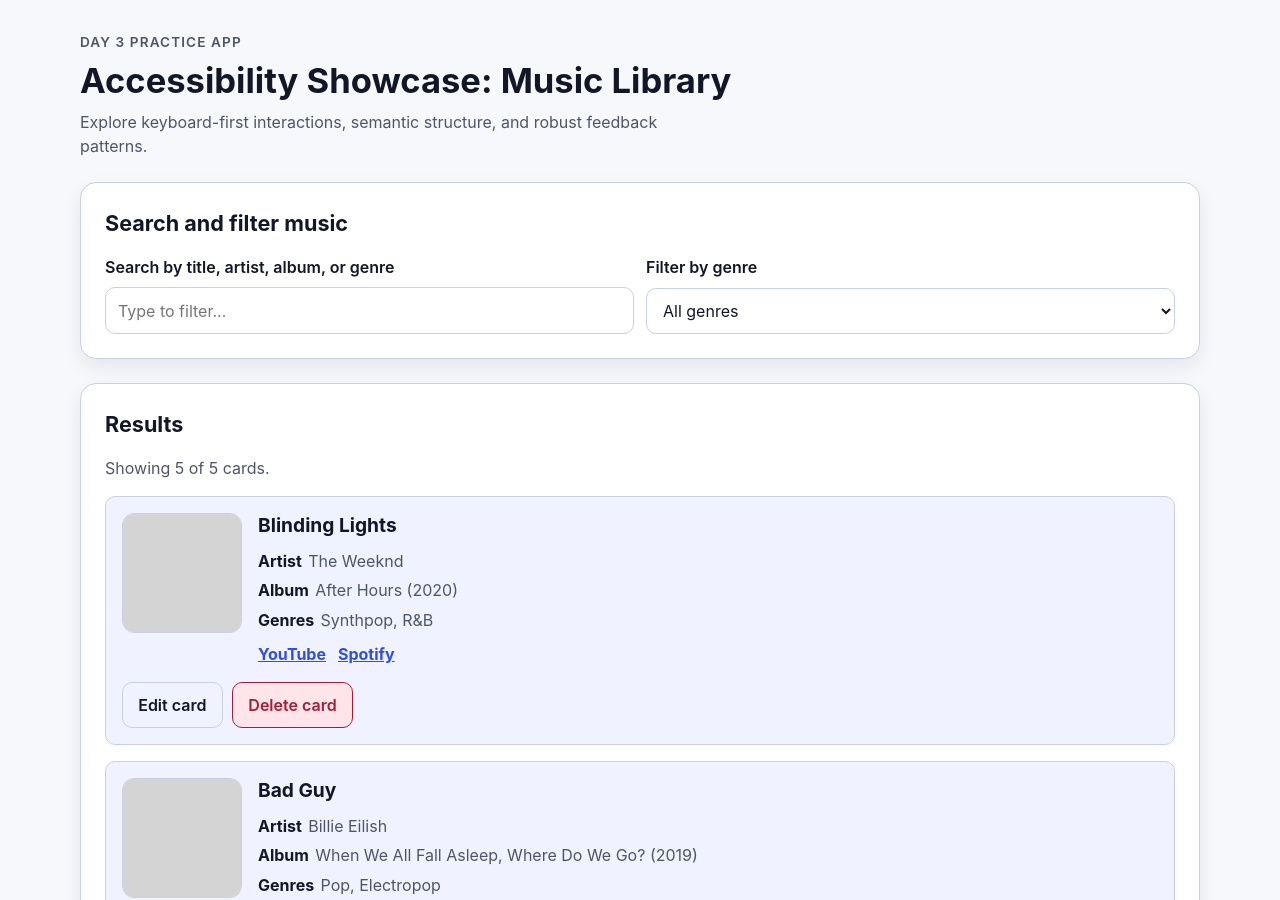
Test: App behavior › filters cards by query and can reset filters
The width and height of the screenshot is (1280, 900).
In the search field labelled "Search by title, artist, album, or genre": (370, 311) [105,287,634,334], type "Bohemian"
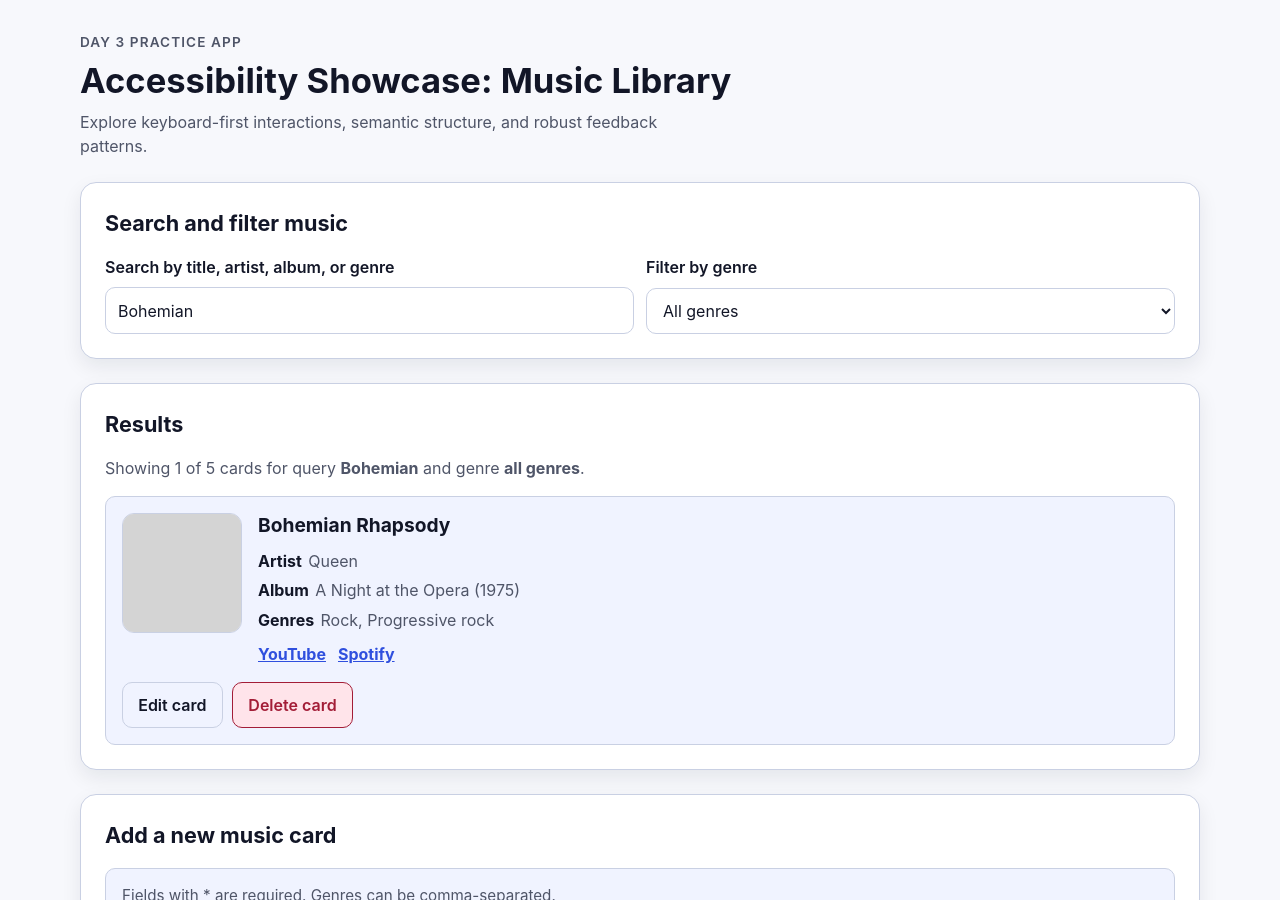
Check: the heading "Bohemian Rhapsody" is shown, box [258,513,450,537]
Check: the heading "Bad Guy" is gone
Replace the text in the search field labelled "Search by title, artist, album, or genre" with "not-a-real-song": (370, 311) [105,287,634,334]
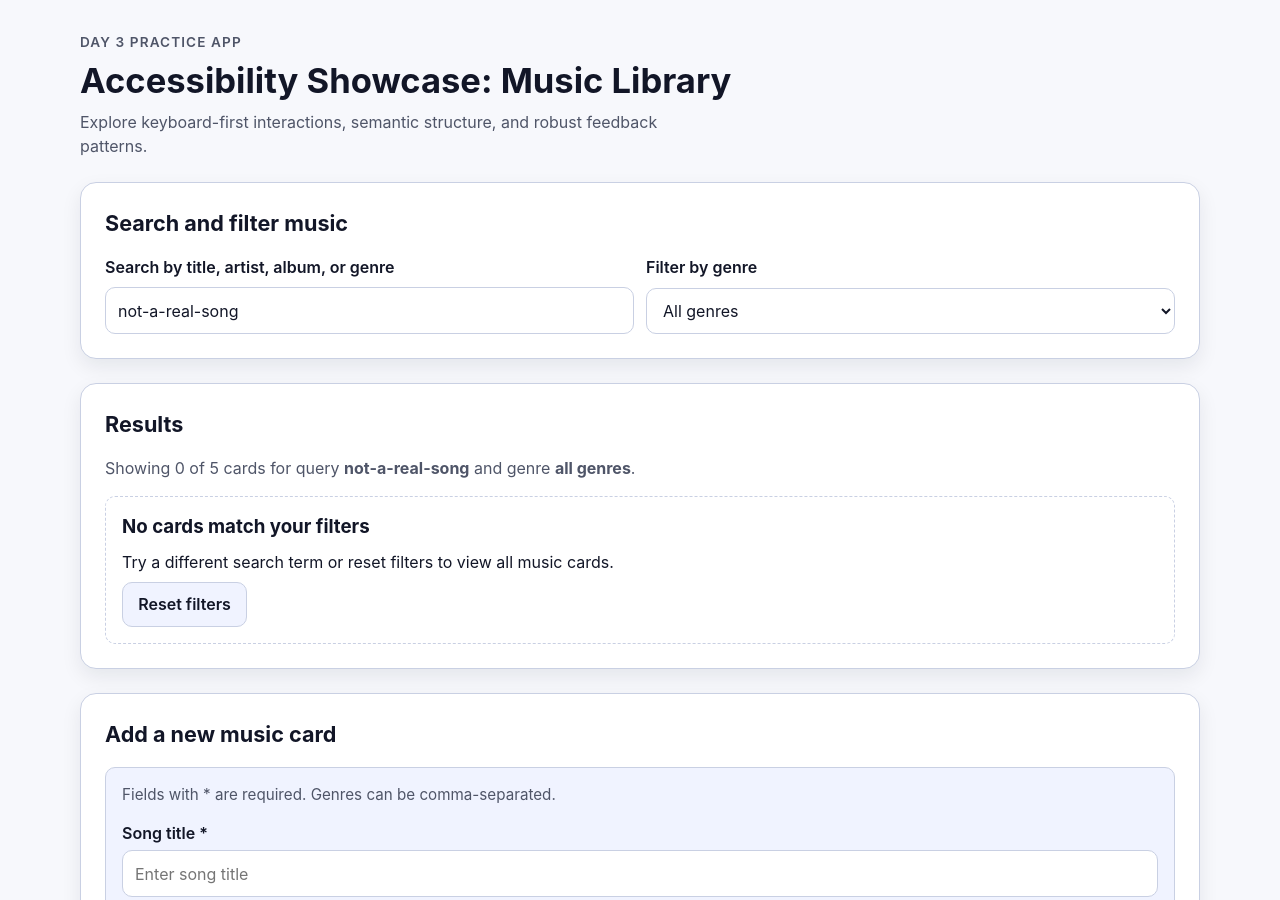
Check: the heading "No cards match your filters" is shown, box [122,513,370,542]
Click the button "Reset filters": (184, 604) [122,582,247,627]
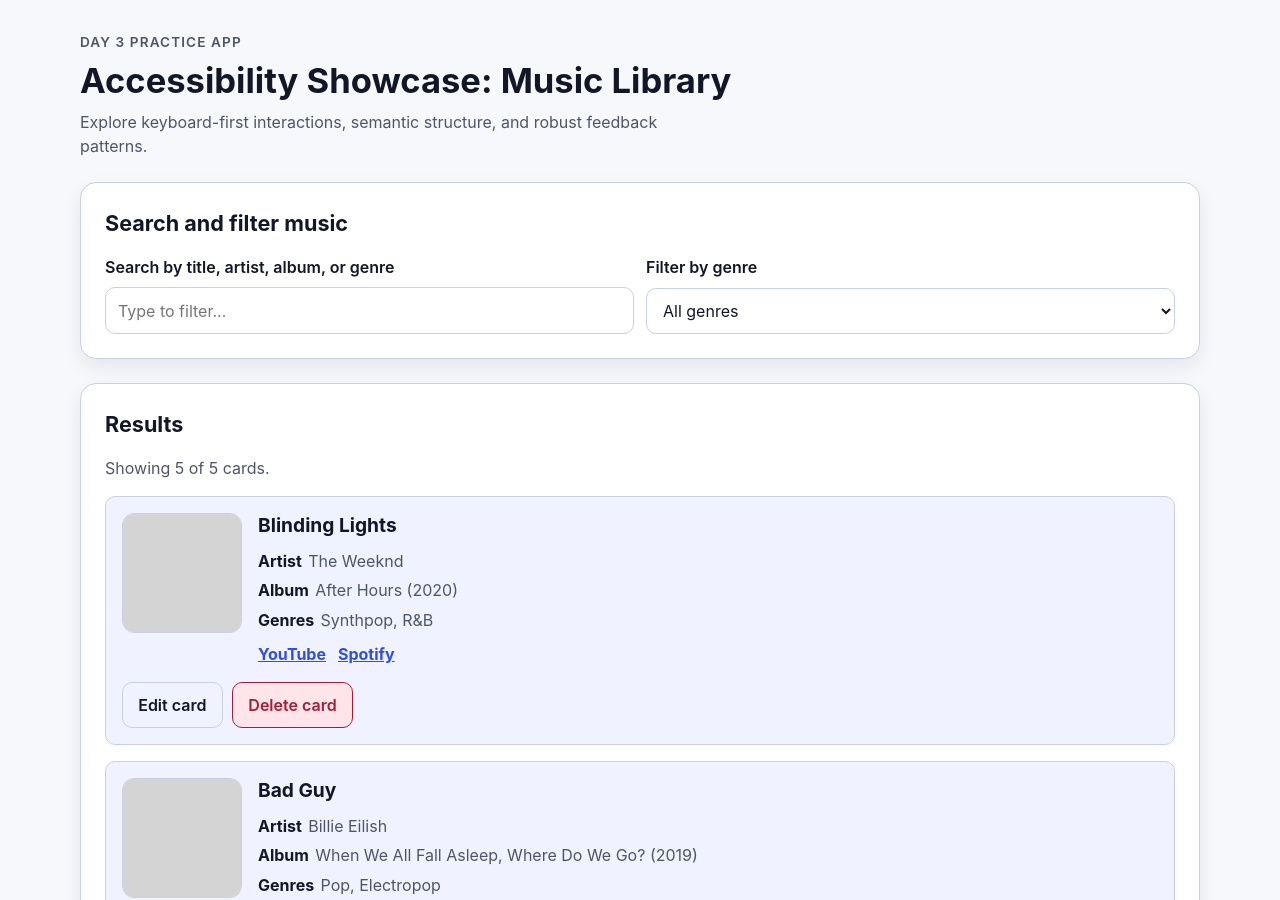
Check: the heading "Bad Guy" is shown, box [258,778,336,802]
